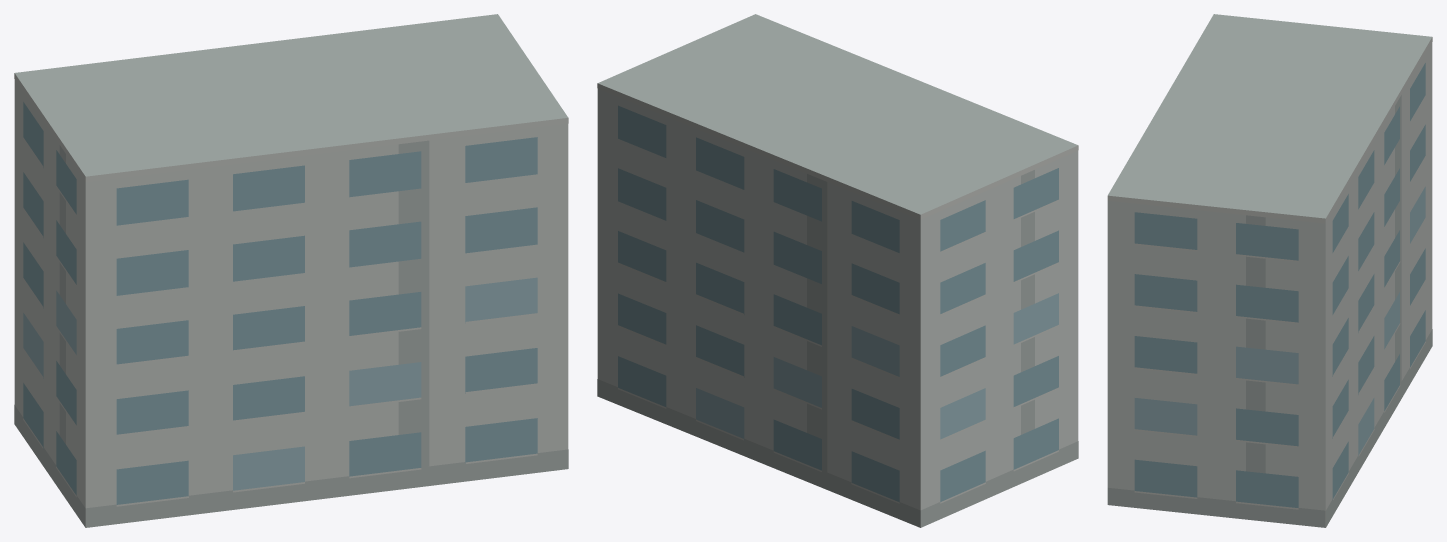
The model's file is survey-upis-32975975.glb.
The picture shows the model from 3 angles, left to right: view 1: azimuth 30°, elevation 25°; view 2: azimuth 150°, elevation 25°; view 3: azimuth 270°, elevation 25°; orthographic projection. The views are drawn at different scales.
Visible parts, largest first — view 1: survey-upis-32975975.tmp; view 2: survey-upis-32975975.tmp; view 3: survey-upis-32975975.tmp.
Part boxes in pixels (box(x1,y1,x2,y2)): survey-upis-32975975.tmp: box(14, 14, 568, 527); survey-upis-32975975.tmp: box(597, 14, 1078, 527); survey-upis-32975975.tmp: box(1107, 14, 1432, 527).
Bounding box in the file's own units: 20.85 × 14.7 × 14.
